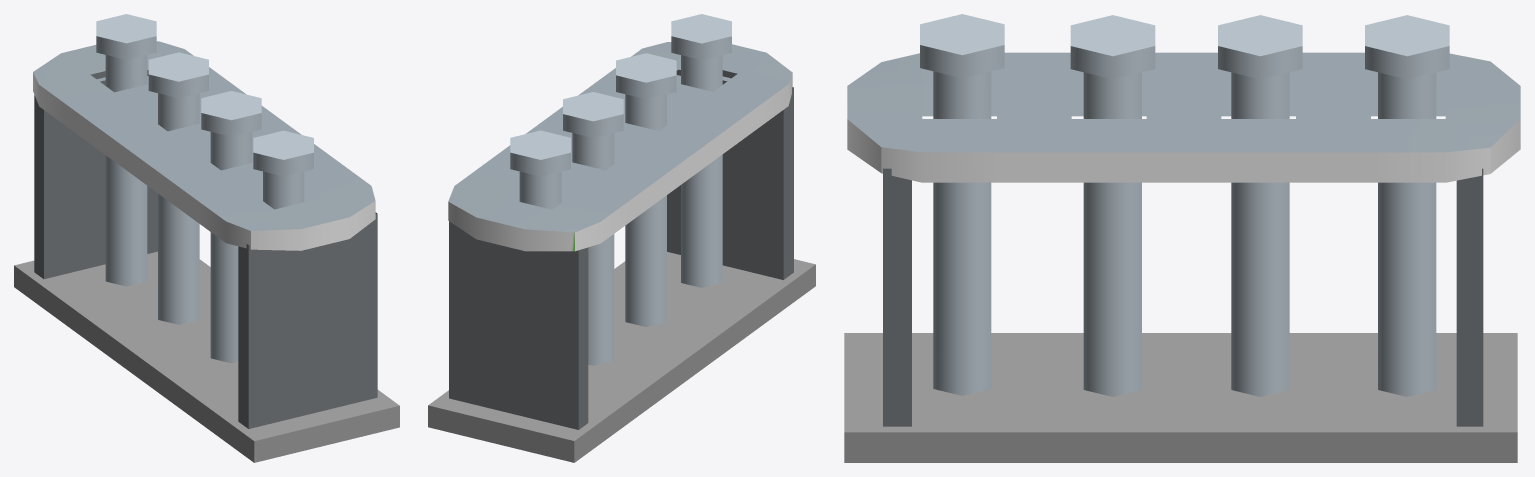
Rendered from reageerbuisjes.fbx.
3 views of the same model, side by side, from view 1: azimuth 30°, elevation 25°; view 2: azimuth 150°, elevation 25°; view 3: azimuth 270°, elevation 25° (orthographic). The views are drawn at different scales.
Visible parts, largest first — view 1: pCube4; view 2: pCube4; view 3: pCube4.
Boxes of the visible parts, left/top/right/bottom form: pCube4: left=14, top=14, right=399, bottom=462; pCube4: left=428, top=14, right=815, bottom=462; pCube4: left=844, top=14, right=1520, bottom=462.
Size of the model in its own units: 9.14 by 16.1 by 26.12.
Materials: 1 (1 with a texture image).
